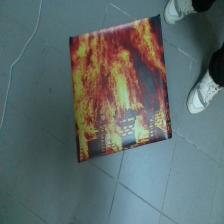fire-poster: (70, 16, 172, 162)
